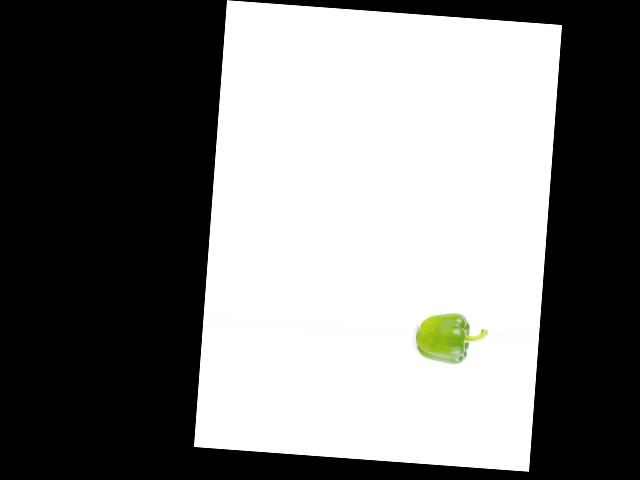bell_pepper: (414, 309, 487, 374)
